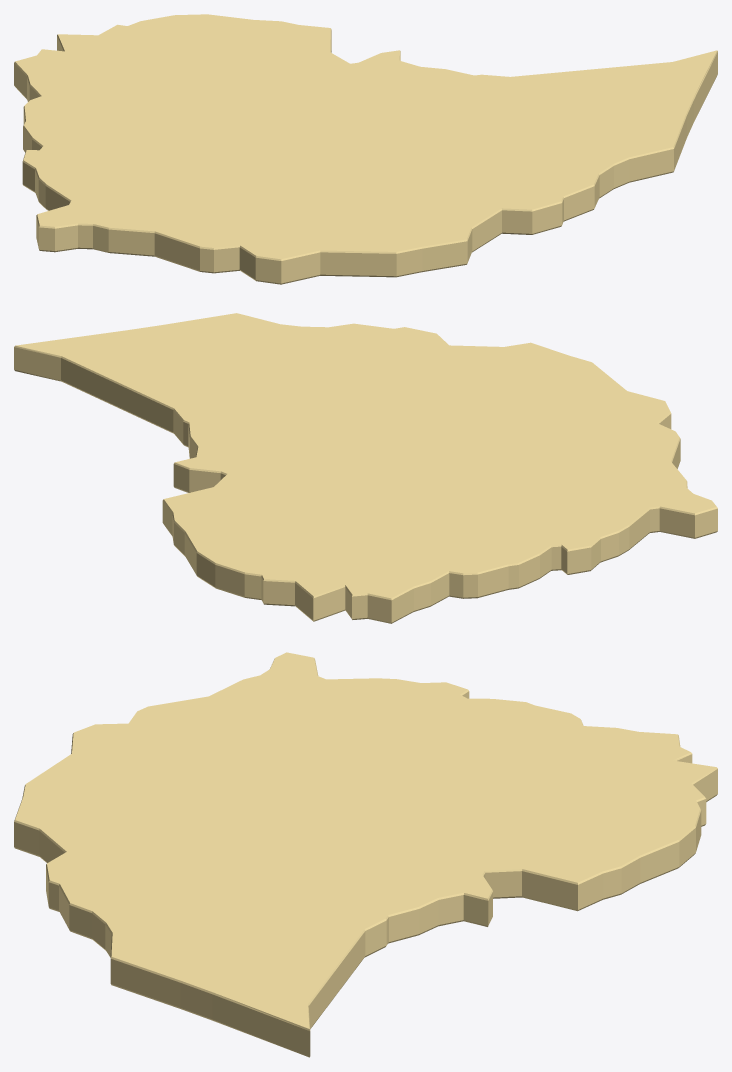
Rendered from ETH.glb.
The picture shows the model from 3 angles, top to bottom: view 1: azimuth 30°, elevation 25°; view 2: azimuth 150°, elevation 25°; view 3: azimuth 270°, elevation 25°; orthographic projection. The views are drawn at different scales.
Bounding box in the file's own units: 1.93 × 0.068 × 1.52.
